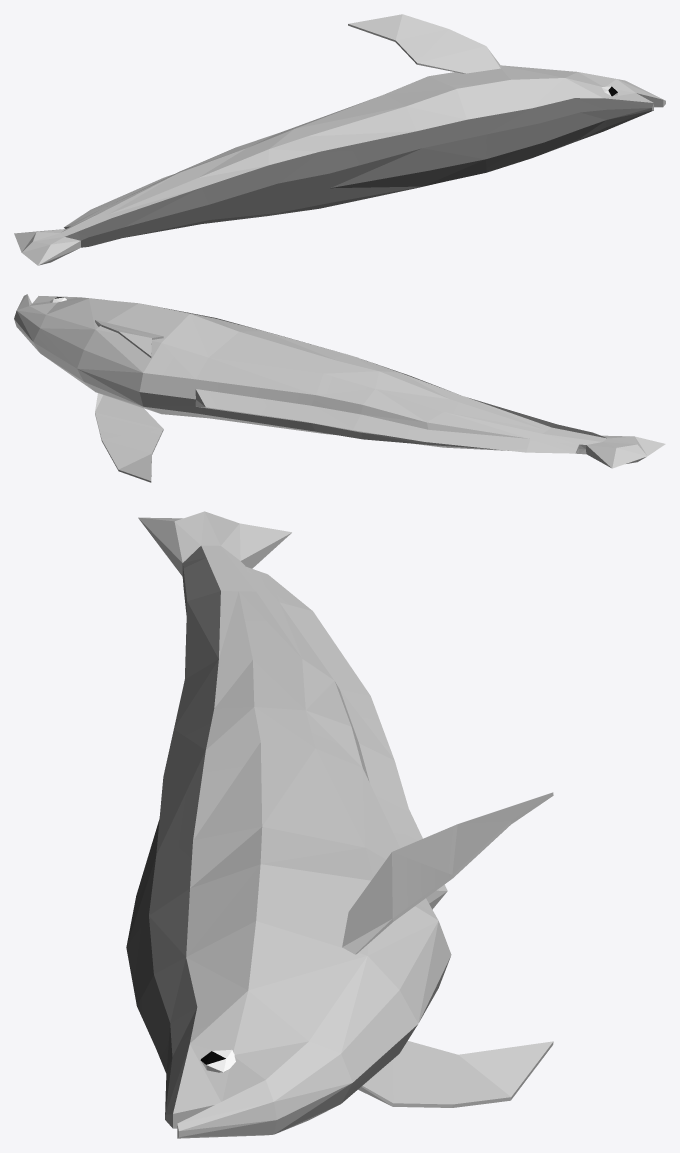
Rendered from Sengarat.glb.
3 views of the same model, one above another, from view 1: azimuth 30°, elevation 25°; view 2: azimuth 150°, elevation 25°; view 3: azimuth 270°, elevation 25° (orthographic). The views are drawn at different scales.
Parts seen in each view (by area): view 1: Sengarat; view 2: Sengarat; view 3: Sengarat.
Part boxes in pixels (x1,y1,x2,y2): Sengarat: (14,14,665,265); Sengarat: (14,294,665,482); Sengarat: (126,511,553,1138).
Size of the model in its own units: 1.06 by 0.2232 by 0.3091.
1 material, 1 textured.
